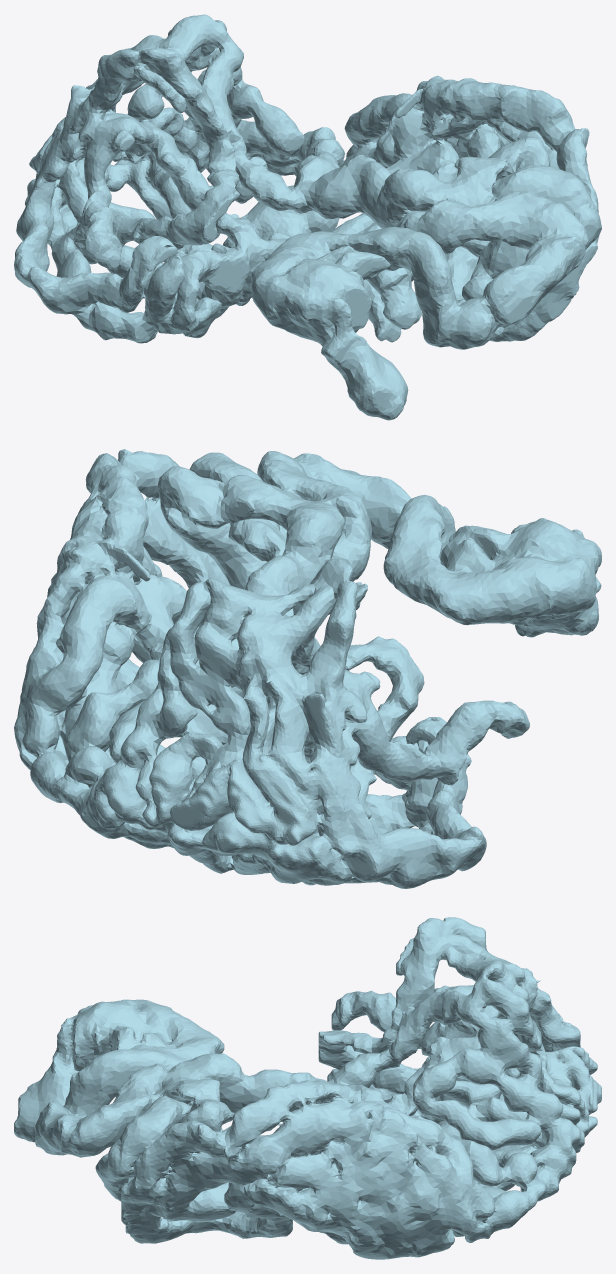
File: smallintestin.obj
The picture shows the model from 3 angles, top to bottom: view 1: azimuth 30°, elevation 25°; view 2: azimuth 150°, elevation 25°; view 3: azimuth 270°, elevation 25°; orthographic projection. The views are drawn at different scales.
Parts seen in each view (by area): view 1: grp1; view 2: grp1; view 3: grp1.
Boxes of the visible parts, left/top/right/bottom form: grp1: left=14, top=14, right=601, bottom=420; grp1: left=14, top=449, right=601, bottom=888; grp1: left=14, top=917, right=601, bottom=1259.
Bounding box in the file's own units: 229 × 136 × 274.
